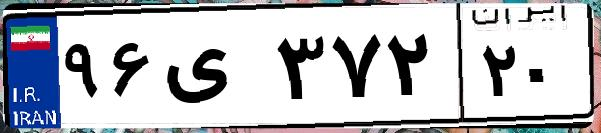0: (525, 38, 570, 115)
2: (385, 28, 445, 110), (475, 38, 525, 113)
3: (270, 28, 330, 110)
6: (110, 28, 158, 98)
7: (330, 28, 385, 110)
9: (57, 26, 110, 100)
ی: (158, 20, 270, 120)
